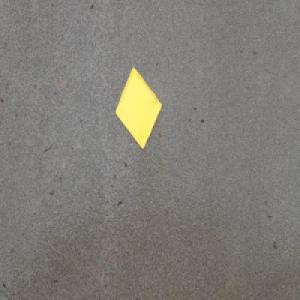PlasticPart: (115, 65, 162, 149)
